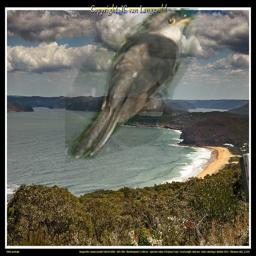Cuckoo: (65, 8, 198, 164)
